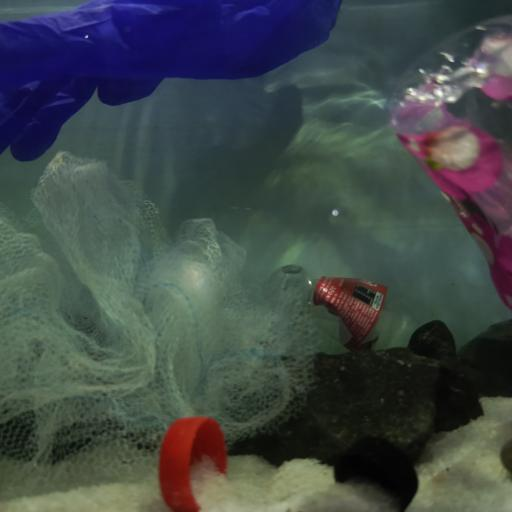bottle_cap: (334, 435, 419, 512), (160, 415, 226, 512)
glove: (0, 0, 343, 164)
net: (1, 150, 322, 477)
plastic_bottle: (383, 12, 512, 319), (260, 262, 441, 354)
